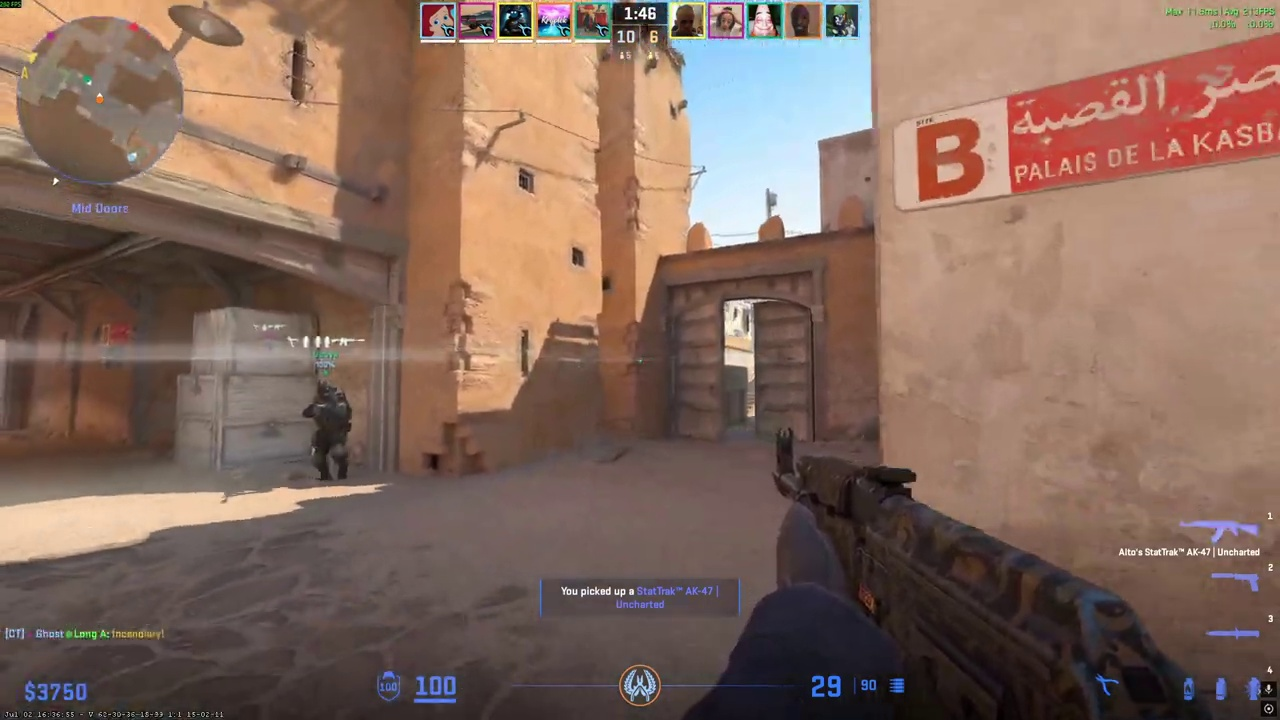CT: (309, 379, 352, 481)
